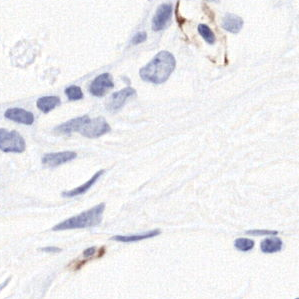Lymphocyte: (75, 244, 107, 266)
